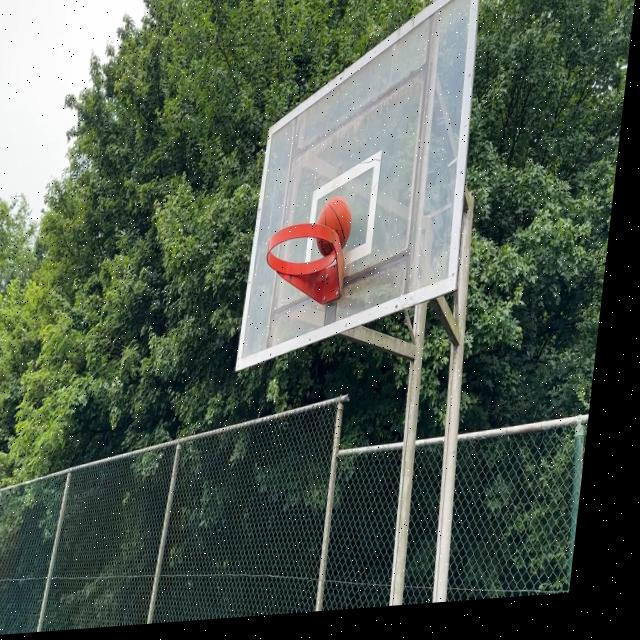rebound_hit: (313, 197, 355, 258)
